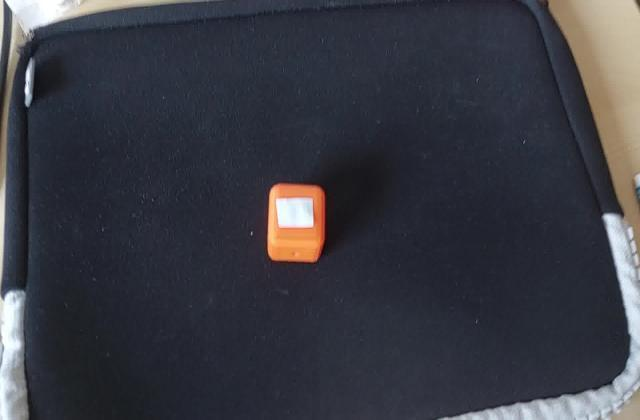sticker: (264, 182, 329, 266)
white: (274, 196, 316, 232)
